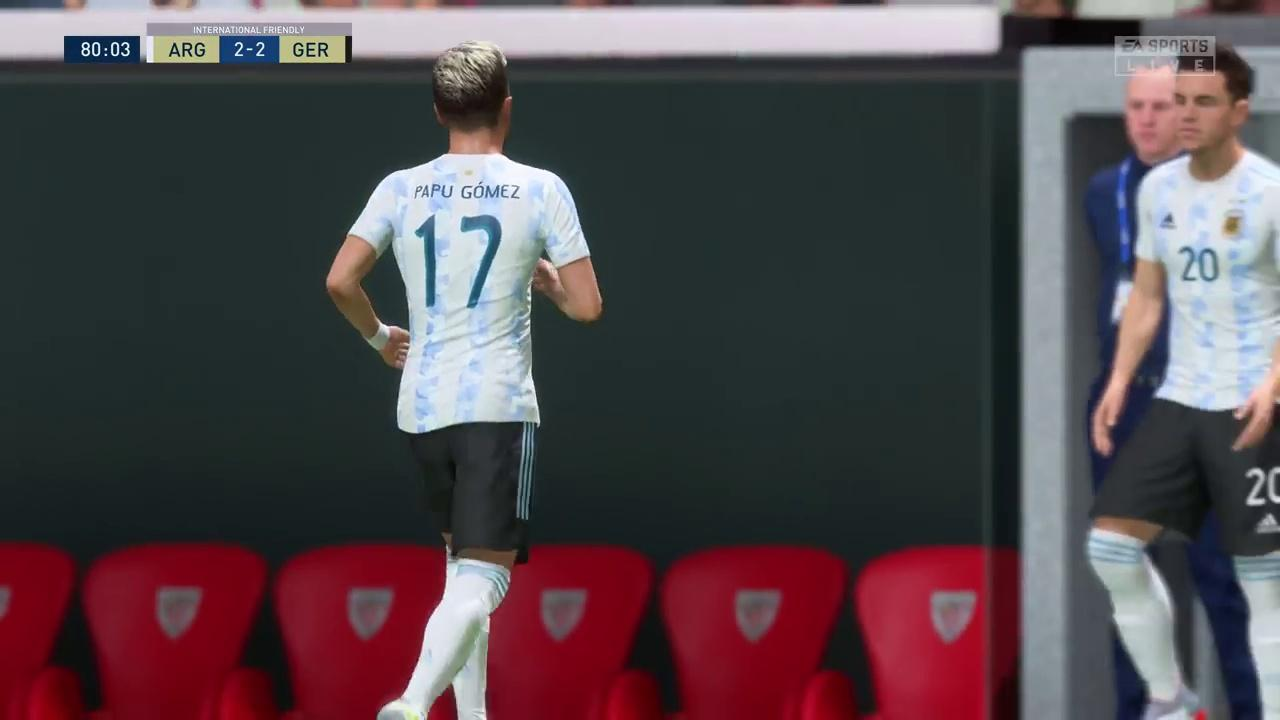scoreboard: (148, 31, 353, 68)
timestamp: (62, 34, 141, 62)
